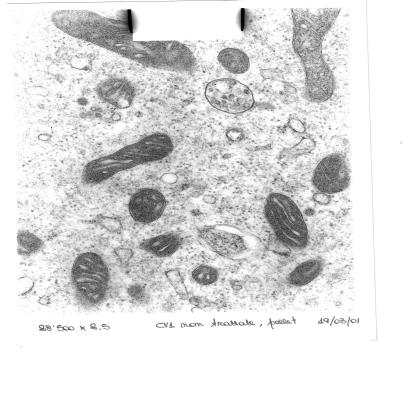mitochondria: (53, 11, 199, 72), (84, 131, 176, 185), (291, 9, 339, 104), (264, 192, 310, 249), (70, 251, 112, 306), (124, 186, 169, 224), (313, 151, 352, 194), (95, 75, 134, 110), (285, 256, 325, 289), (138, 232, 186, 258), (217, 47, 253, 74), (17, 228, 44, 256), (191, 263, 221, 286)
